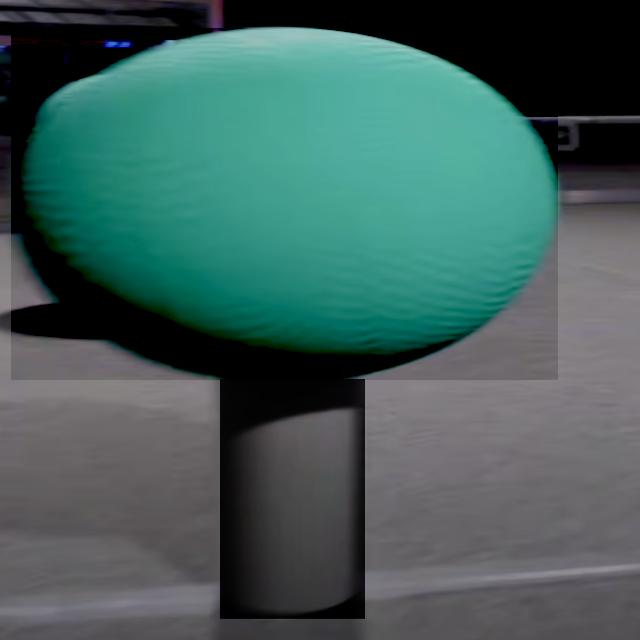Algae: (11, 28, 558, 380)
Coral: (220, 380, 365, 620)
